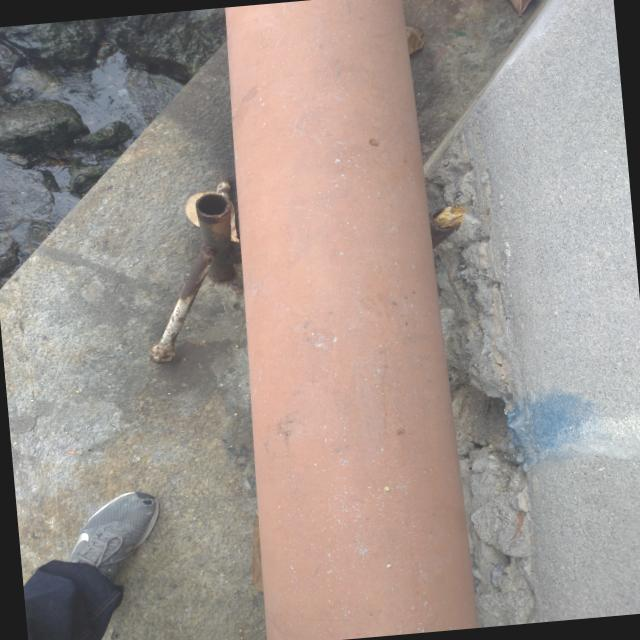gas: (208, 0, 479, 640)
